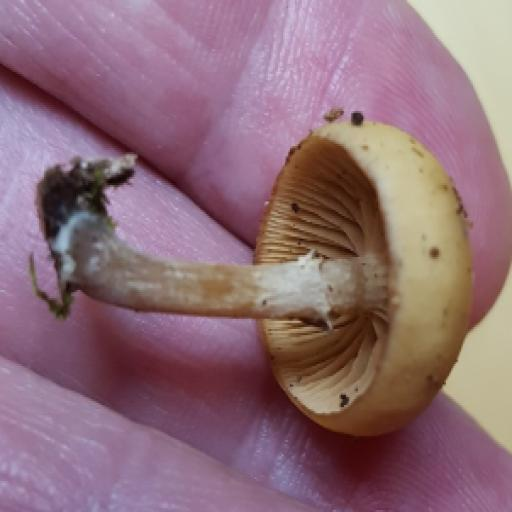mushroom: (187, 92, 478, 465)
